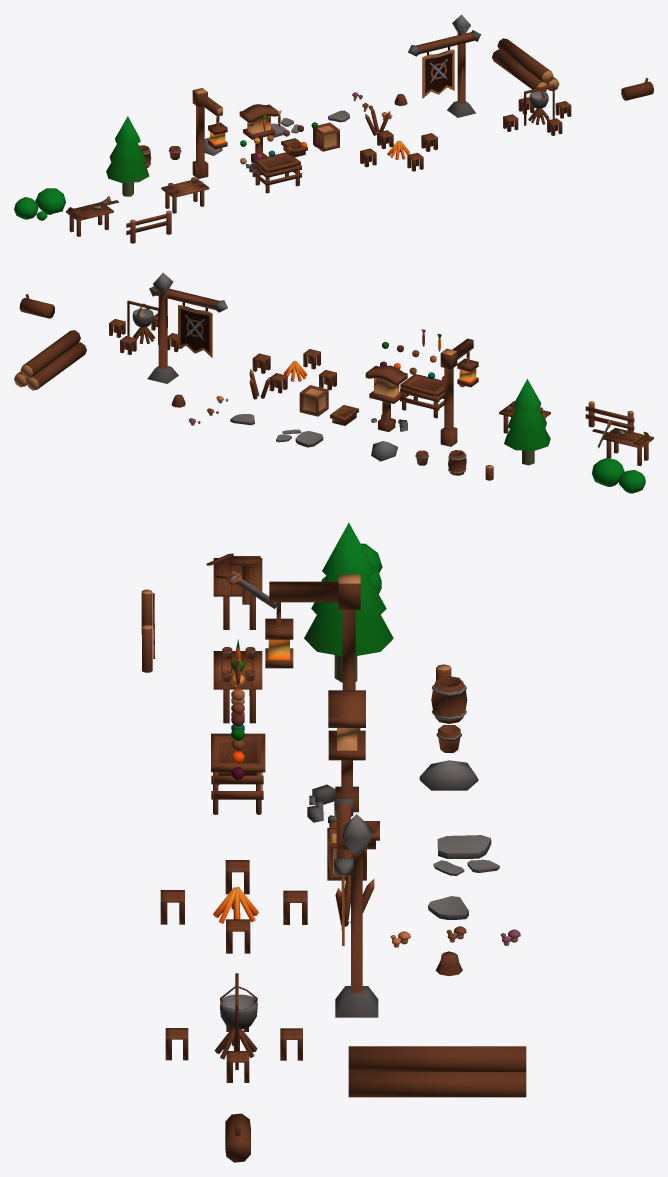
The model's file is Location_Prefabs.fbx.
3 renders of one model, top to bottom at view 1: azimuth 30°, elevation 25°; view 2: azimuth 150°, elevation 25°; view 3: azimuth 270°, elevation 25°, orthographic. The views are drawn at different scales.
Visible parts, largest first — view 1: Flag, Tree, Log_03, Flashlight, Pot, FIRE, Pallet_02, Noticeboard, Bush, Table_02, Table_01, Box (+2 smaller); view 2: Flag, Tree, Log_03, Flashlight, Noticeboard, Pot, FIRE, Pallet_02, Bush, Table_02, Box, Fence (+6 smaller); view 3: Log_03, Tree, Flag, Flashlight, Noticeboard, Pot, FIRE, Pallet_02, Table_02, Table_01, Stone_02, Barrel (+3 smaller).
Boxes of the visible parts, x1,y1,x2,y2 form: Flag: (408, 14, 480, 117); Tree: (106, 116, 149, 196); Log_03: (492, 38, 559, 91); Flashlight: (192, 88, 227, 178); Pot: (503, 84, 571, 135); FIRE: (360, 130, 437, 171); Pallet_02: (252, 152, 301, 193); Noticeboard: (239, 104, 278, 172); Bush: (14, 188, 65, 220); Table_02: (66, 196, 118, 236); Table_01: (161, 177, 209, 213); Box: (313, 122, 339, 151); Flag: (147, 272, 227, 383); Tree: (504, 379, 550, 465); Log_03: (14, 330, 86, 390); Flashlight: (440, 338, 478, 446); Noticeboard: (365, 365, 407, 431); Pot: (109, 300, 182, 354); FIRE: (252, 349, 336, 393); Pallet_02: (400, 374, 444, 418); Bush: (592, 457, 645, 493); Table_02: (592, 419, 653, 465); Box: (299, 385, 328, 416); Fence: (585, 401, 634, 431); Log_03: (348, 1046, 526, 1097); Tree: (304, 522, 393, 682); Flag: (334, 799, 378, 1017); Flashlight: (265, 574, 360, 730); Noticeboard: (307, 690, 365, 822); Pot: (165, 973, 302, 1082); FIRE: (160, 860, 307, 953); Pallet_02: (211, 733, 265, 814); Table_02: (206, 553, 276, 629); Table_01: (213, 647, 262, 723); Stone_02: (433, 835, 499, 875); Barrel: (431, 676, 467, 723).
Size of the model in its own units: 32.34 by 5.07 by 8.9.
